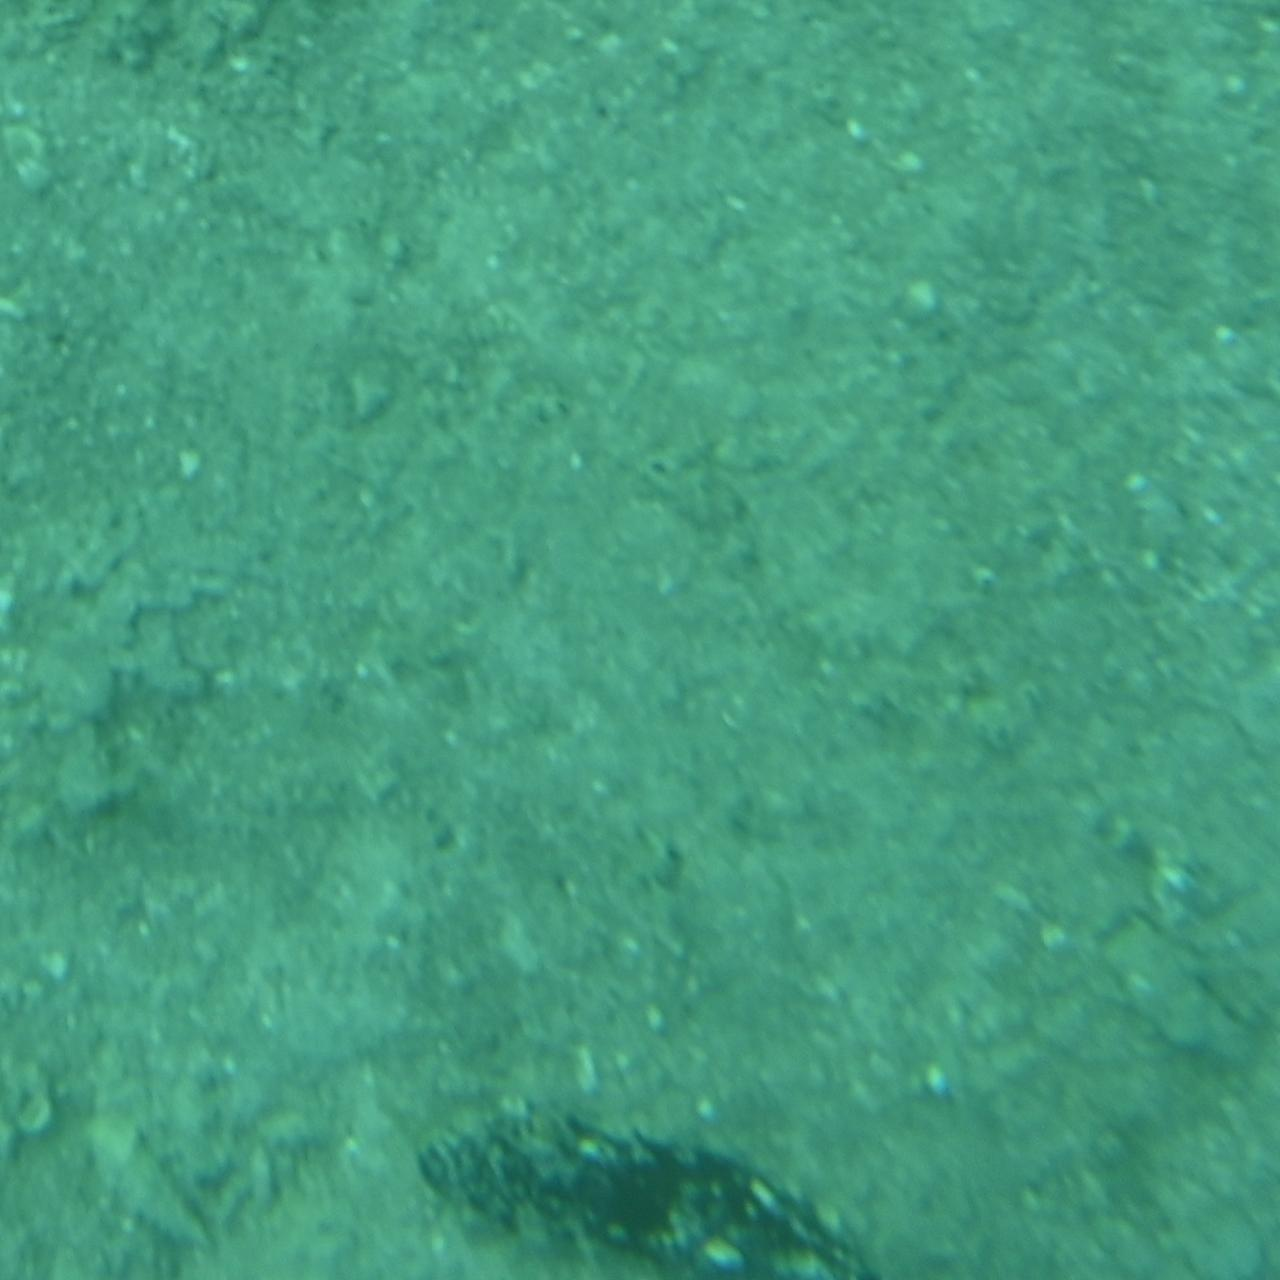Holothuria tubulosa: (409, 1091, 871, 1279)
